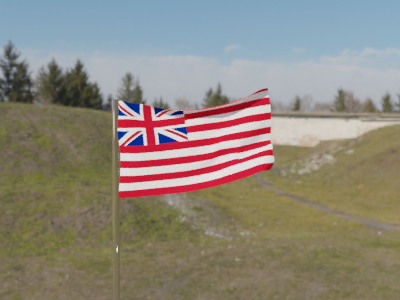Malaysia flag: (116, 85, 274, 202)
